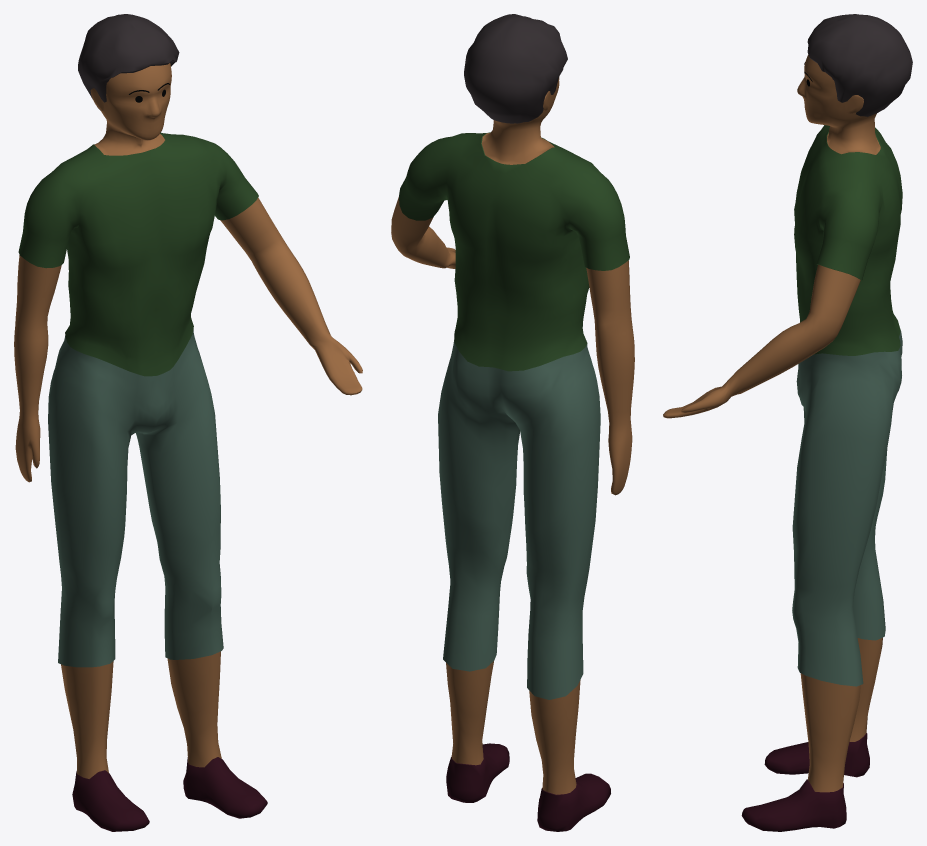
The model's file is Male_Talking_1.glb.
3 renders of one model, left to right at view 1: azimuth 30°, elevation 25°; view 2: azimuth 150°, elevation 25°; view 3: azimuth 270°, elevation 25°, orthographic. The views are drawn at different scales.
Parts seen in each view (by area): view 1: Male-Talking-1; view 2: Male-Talking-1; view 3: Male-Talking-1.
Boxes of the visible parts, x1,y1,x2,y2 form: Male-Talking-1: (14,14,362,831); Male-Talking-1: (391,14,634,831); Male-Talking-1: (663,14,912,831).
Size of the model in its own units: 0.5948 by 1.7 by 0.4948.
